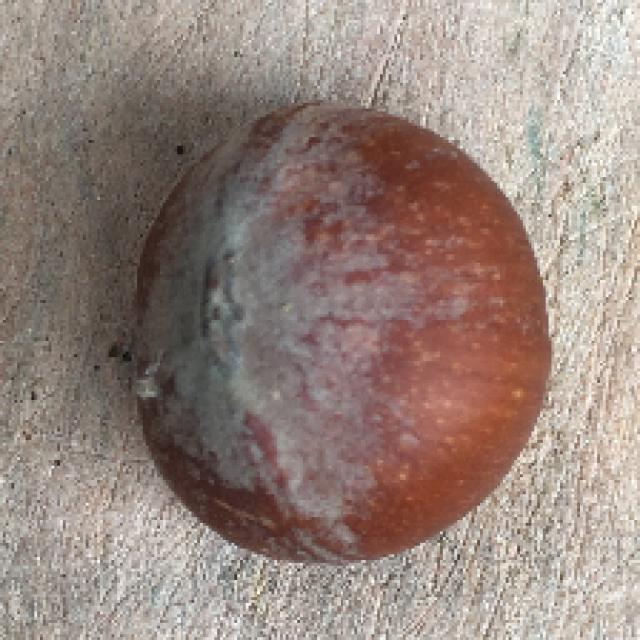qualityHazelnut: (116, 91, 558, 566)
